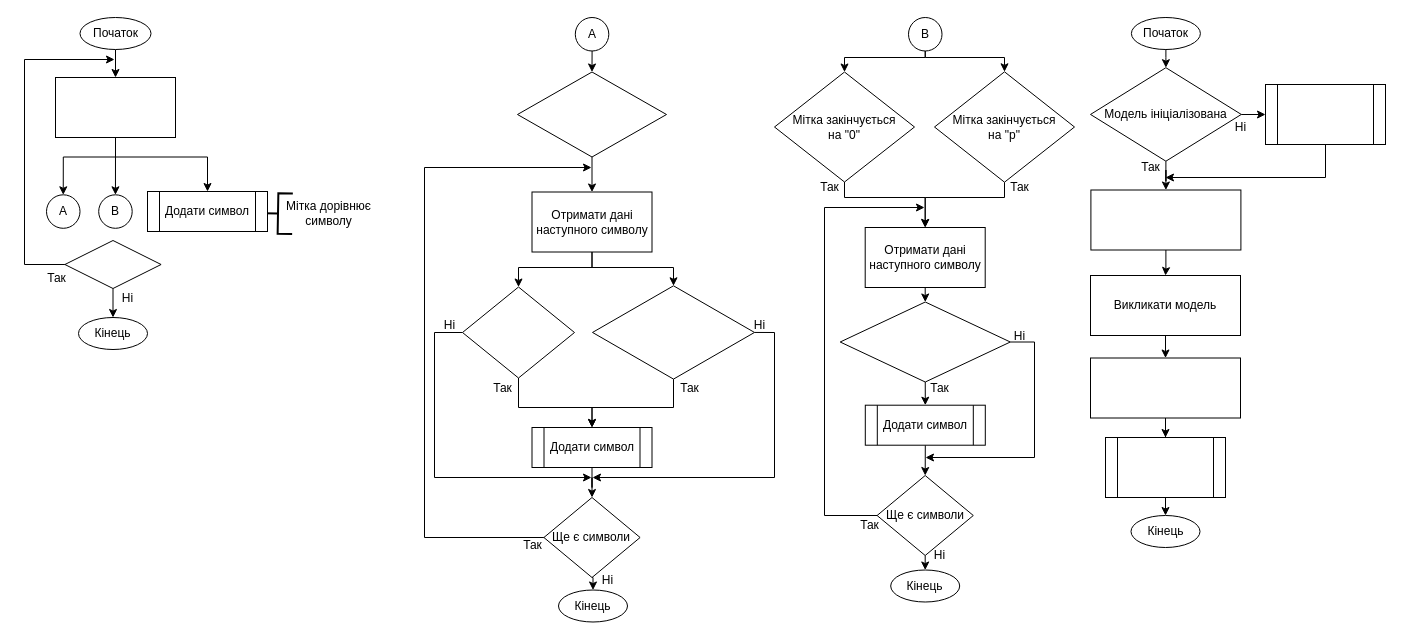
This 1403x640 diagram has some shape labels left out. Each missing label, with the centre of its shape:
Встановити матрицю пікселей картинки на перший шар мережі: the point at 1165,219
Відфільтрувати передбачення: the point at 1165,467
Мітка закінчується на "yes": the point at 591,114
Отримати дані наступної мітки: the point at 115,107
Отримати результати з останнього шару мережі: the point at 1165,387
Символ не закінчується на "no": the point at 518,332
Символ починається на мітку: the point at 924,341
Символ починається на префікс мітки: the point at 673,332
Ще є мітки: the point at 112,264
Ініціалізувати модель: the point at 1325,114
